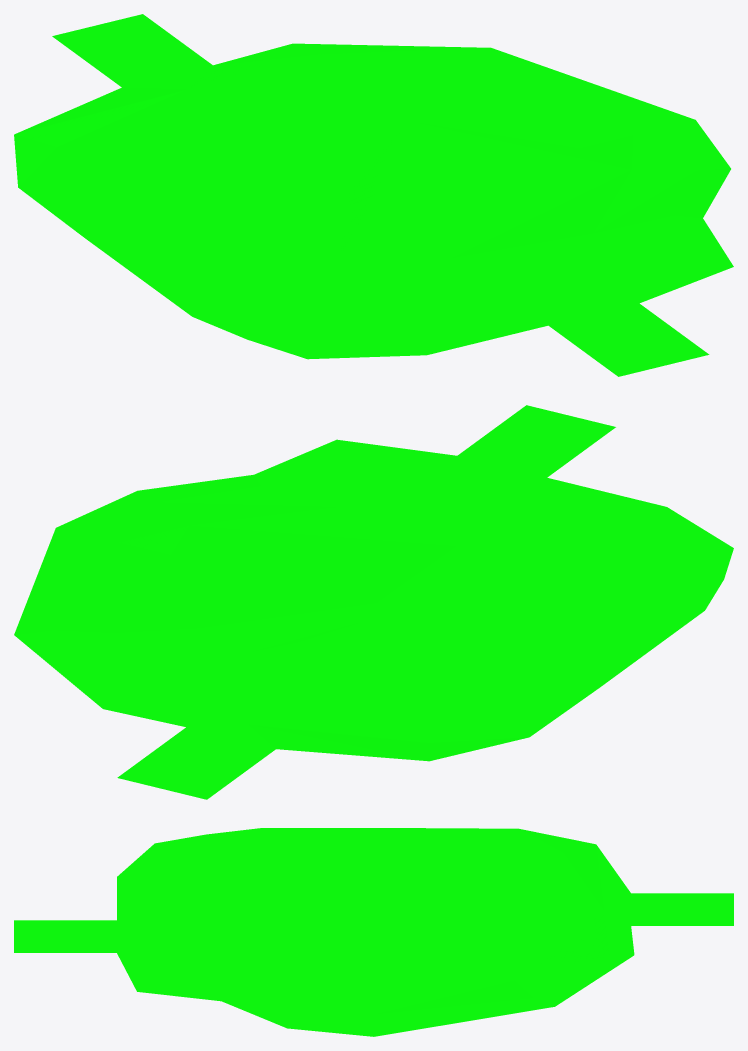
File: s04a_ib1-floor.glb
The picture shows the model from 3 angles, top to bottom: view 1: azimuth 30°, elevation 25°; view 2: azimuth 150°, elevation 25°; view 3: azimuth 270°, elevation 25°; orthographic projection. The views are drawn at different scales.
Visible parts, largest first — view 1: collision_floor-colonly; view 2: collision_floor-colonly; view 3: collision_floor-colonly.
Part boxes in pixels (<box>): collision_floor-colonly: <box>14,14,733,376</box>; collision_floor-colonly: <box>14,405,733,799</box>; collision_floor-colonly: <box>14,828,733,1036</box>.
Bounding box in the file's own units: 38.25 × 0.2344 × 56.
